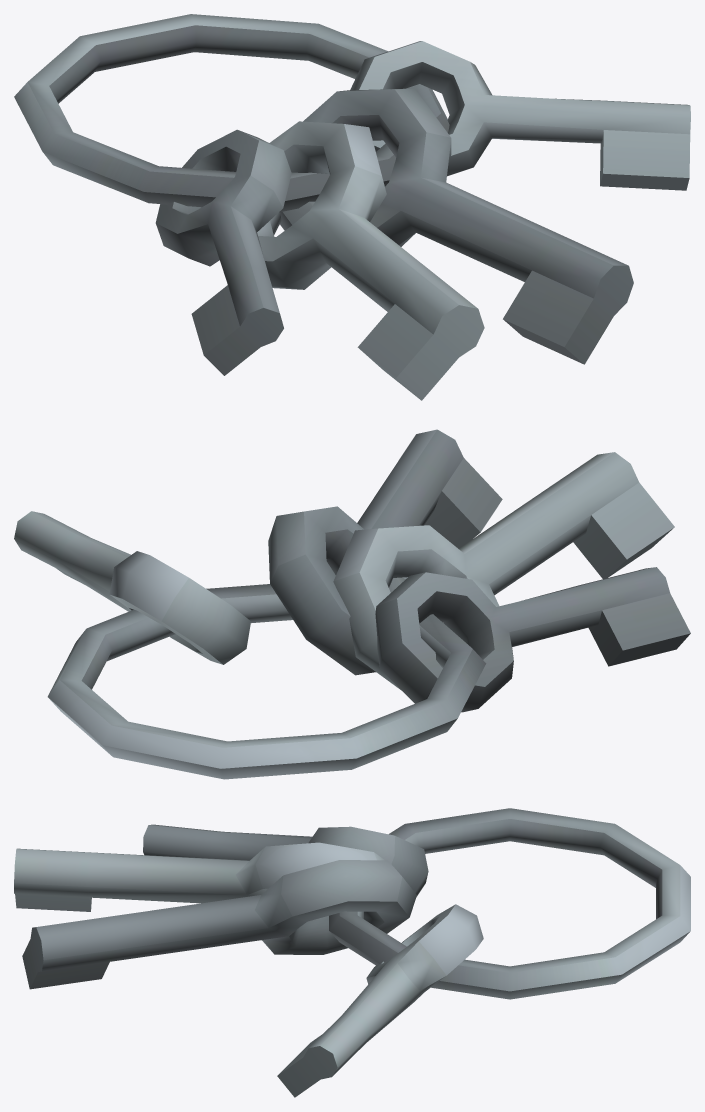
The model's file is keyring-gltf.glb.
The picture shows the model from 3 angles, top to bottom: view 1: azimuth 30°, elevation 25°; view 2: azimuth 150°, elevation 25°; view 3: azimuth 270°, elevation 25°; orthographic projection. The views are drawn at different scales.
Parts seen in each view (by area): view 1: keyring; view 2: keyring; view 3: keyring.
Part boxes in pixels (bbox=[...]): keyring: bbox=[14, 14, 690, 400]; keyring: bbox=[14, 429, 690, 779]; keyring: bbox=[14, 808, 690, 1097].
Bounding box in the file's own units: 1.03 × 0.2613 × 1.21.
Materials: 1 (1 with a texture image).
